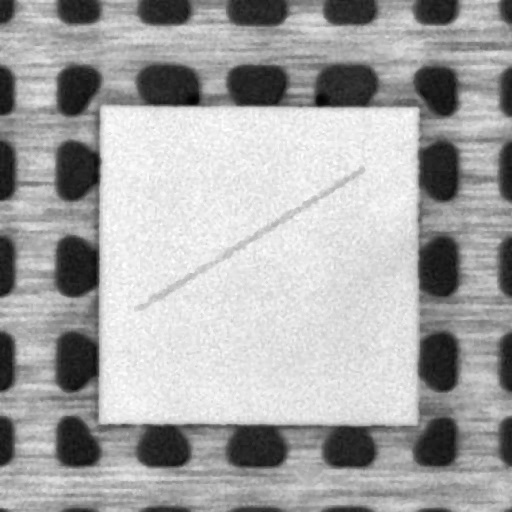DIE_CRACK: (136, 168, 362, 309)
